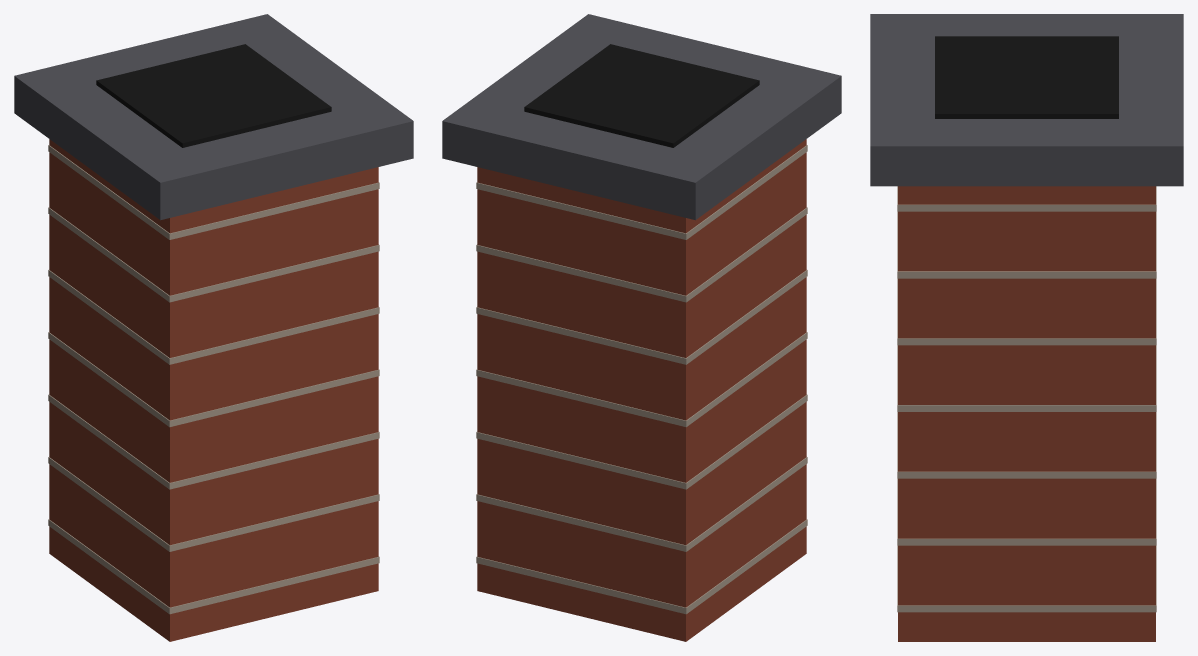
Rendered from chimney.glb.
The picture shows the model from 3 angles, left to right: view 1: azimuth 30°, elevation 25°; view 2: azimuth 150°, elevation 25°; view 3: azimuth 270°, elevation 25°; orthographic projection. The views are drawn at different scales.
Visible parts, largest first — view 1: main; view 2: main; view 3: main.
Part boxes in pixels (bbox=[...]): main: bbox=[14, 14, 413, 641]; main: bbox=[442, 14, 841, 641]; main: bbox=[870, 14, 1183, 641].
Size of the model in its own units: 0.85 by 1.53 by 0.85.
